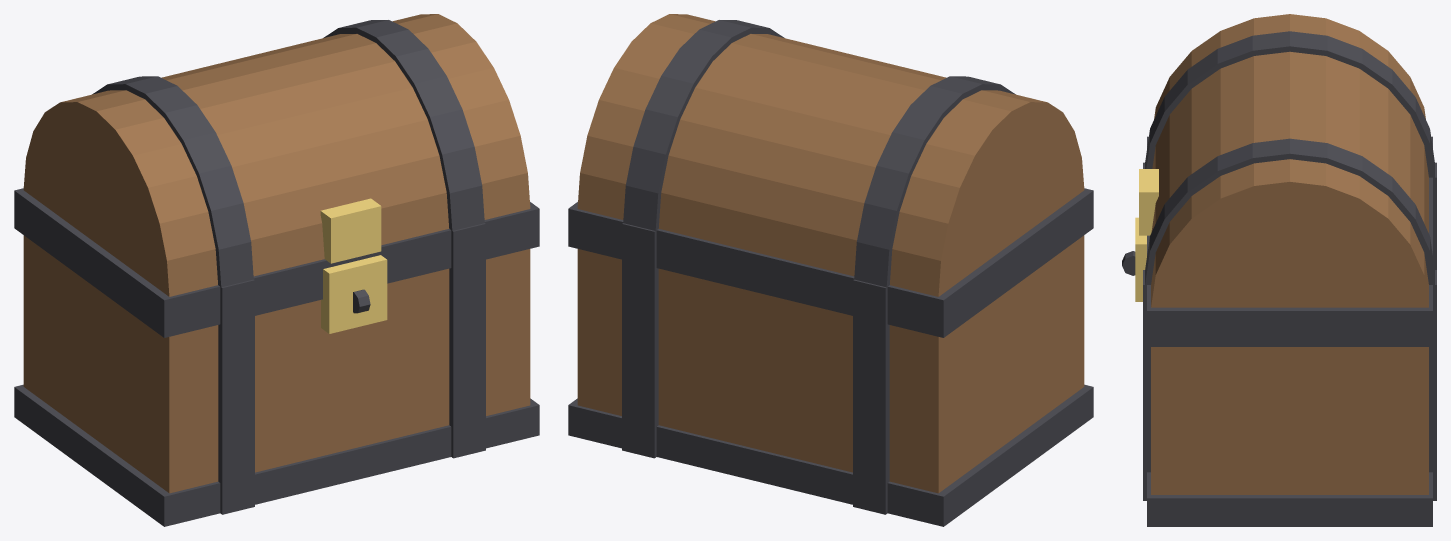
Rendered from TreasureChest.glb.
3 views of the same model, side by side, from view 1: azimuth 30°, elevation 25°; view 2: azimuth 150°, elevation 25°; view 3: azimuth 270°, elevation 25° (orthographic). The views are drawn at different scales.
Visible parts, largest first — view 1: TreasureChest; view 2: TreasureChest; view 3: TreasureChest.
Boxes of the visible parts, box(x1,y1,x2,y2) form: TreasureChest: box(14, 14, 539, 526); TreasureChest: box(568, 14, 1093, 526); TreasureChest: box(1122, 14, 1436, 526).
Bounding box in the file's own units: 1.04 × 0.965 × 0.793.
